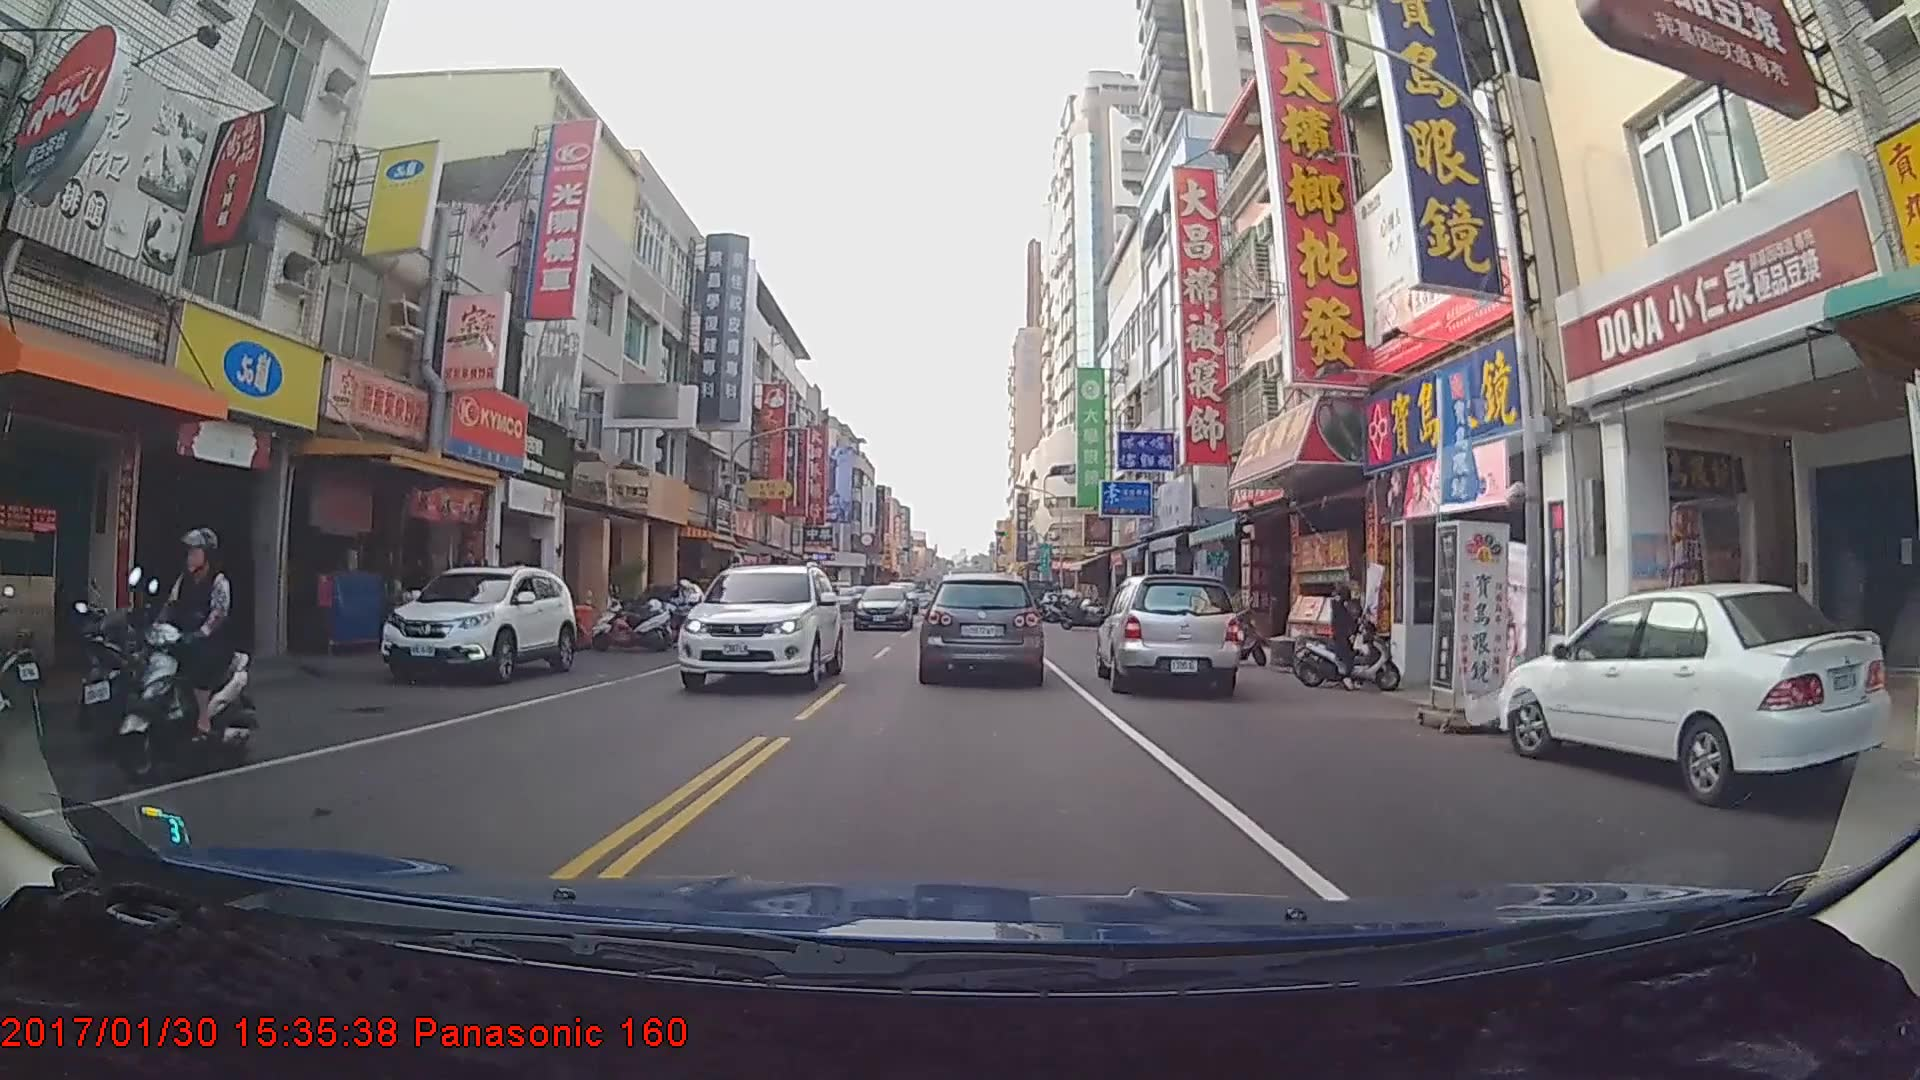rider: (112, 526, 257, 787), (1292, 576, 1407, 695)
vehicle: (1495, 581, 1889, 805), (374, 560, 578, 685), (679, 561, 843, 691), (1094, 570, 1241, 698), (921, 572, 1042, 683), (851, 583, 913, 631)
